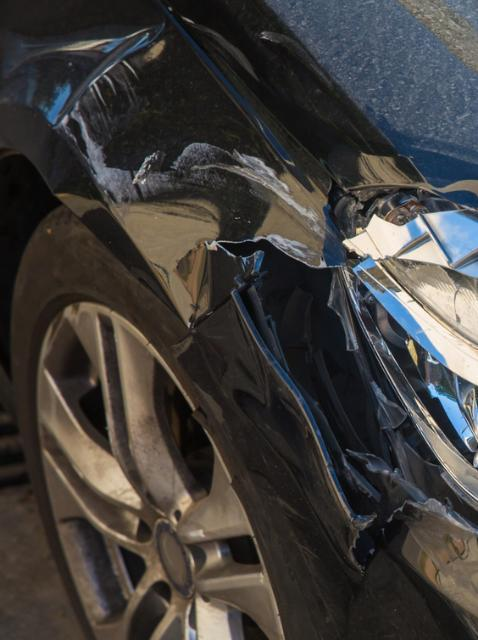Bumper: (177, 264, 478, 640)
Fender: (0, 0, 398, 320)
Light: (347, 190, 478, 463)
